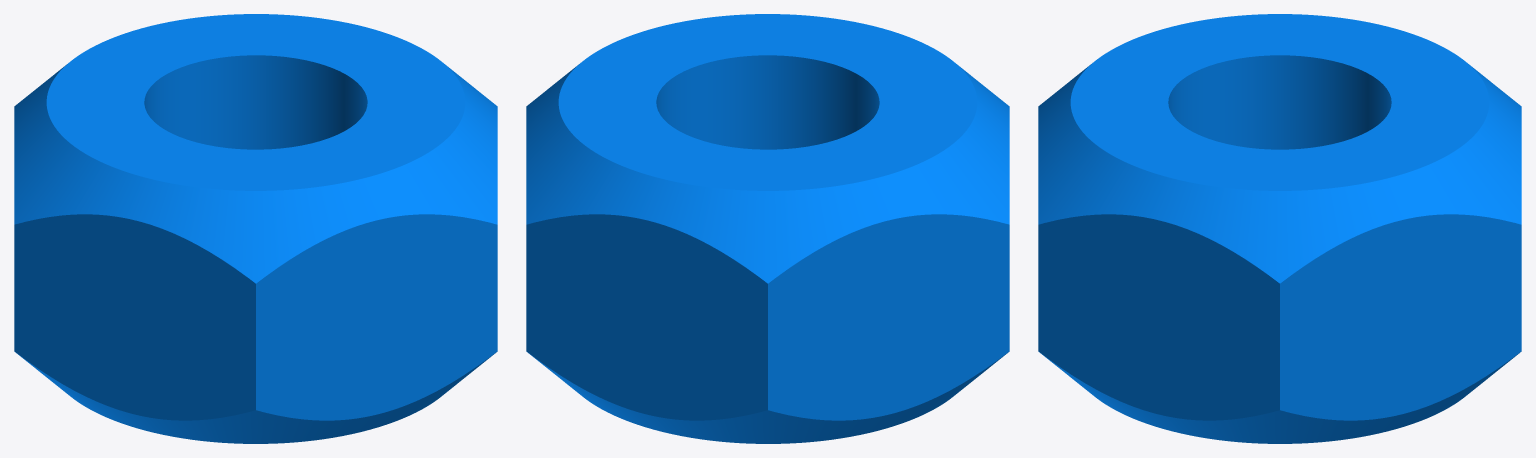
Rendered from hex-nut-with-chamfer.glb.
The picture shows the model from 3 angles, left to right: view 1: azimuth 30°, elevation 25°; view 2: azimuth 150°, elevation 25°; view 3: azimuth 270°, elevation 25°; orthographic projection.
Bounding box in the file's own units: 0.02 × 0.01 × 0.0173.
